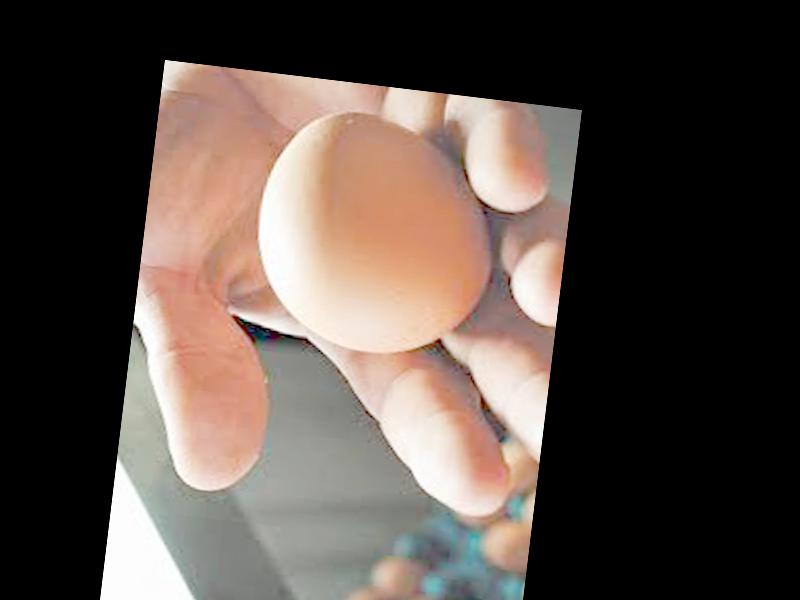Eggs: (246, 98, 510, 366)
